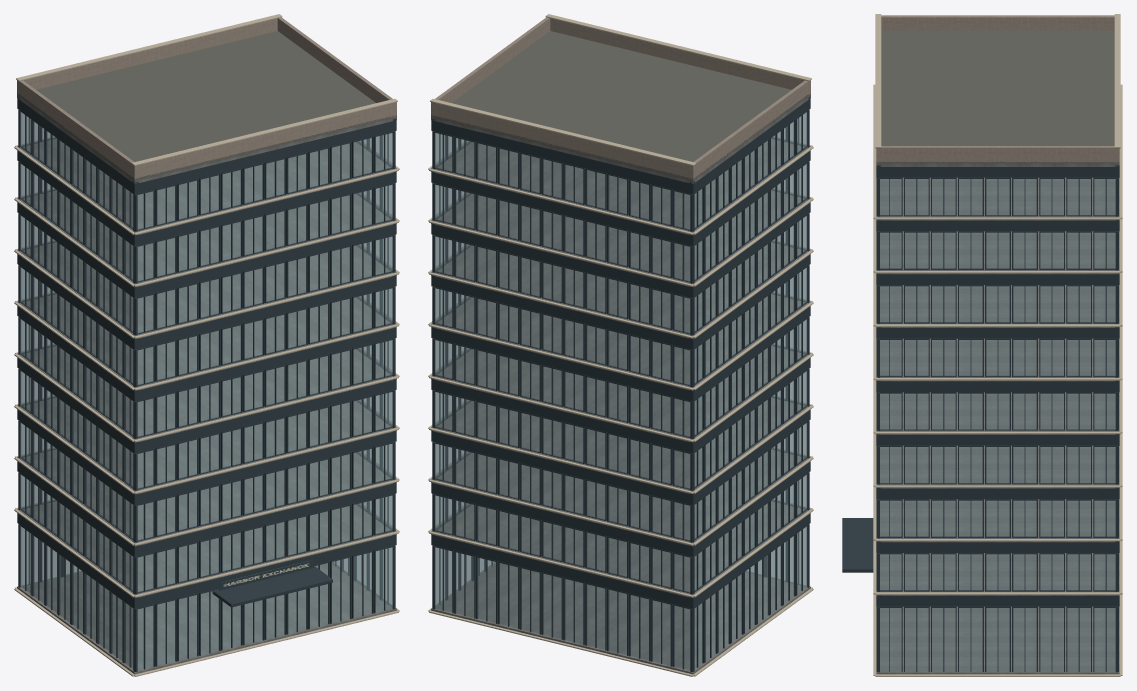
File: harbor-exchange-v2-lod1.glb
The picture shows the model from 3 angles, left to right: view 1: azimuth 30°, elevation 25°; view 2: azimuth 150°, elevation 25°; view 3: azimuth 270°, elevation 25°; orthographic projection. The views are drawn at different scales.
Visible parts, largest first — view 1: Office_glazing (×20), Concrete, Powder_coated_aluminium (×21), Roof_membrane, Plaster, Limestone (×10), Exchange_sign_ink; view 2: Office_glazing (×20), Concrete, Powder_coated_aluminium (×20), Roof_membrane, Plaster, Limestone (×10); view 3: Concrete, Office_glazing (×9), Powder_coated_aluminium (×10), Roof_membrane, Limestone (×12), Plaster.
Part boxes in pixels (x1,y1,x2,y2): Office_glazing (×20): (20, 112, 392, 670); Concrete: (17, 95, 396, 674); Powder_coated_aluminium (×21): (17, 100, 396, 671); Roof_membrane: (17, 31, 396, 181); Plaster: (17, 17, 396, 179); Limestone (×10): (16, 14, 398, 676); Exchange_sign_ink: (219, 560, 313, 590); Office_glazing (×20): (435, 112, 807, 670); Concrete: (431, 94, 810, 674); Powder_coated_aluminium (×20): (431, 100, 810, 671); Roof_membrane: (431, 31, 810, 181); Plaster: (431, 17, 810, 179); Limestone (×10): (429, 14, 811, 676); Concrete: (876, 163, 1119, 674); Office_glazing (×9): (880, 179, 1115, 671); Powder_coated_aluminium (×10): (842, 167, 1118, 671); Roof_membrane: (876, 30, 1119, 163); Limestone (×12): (873, 14, 1122, 676); Plaster: (876, 15, 1119, 162).
Bounding box in the file's own units: 18.34 × 33.6 × 16.12.
Materials: 7 (3 with a texture image).
